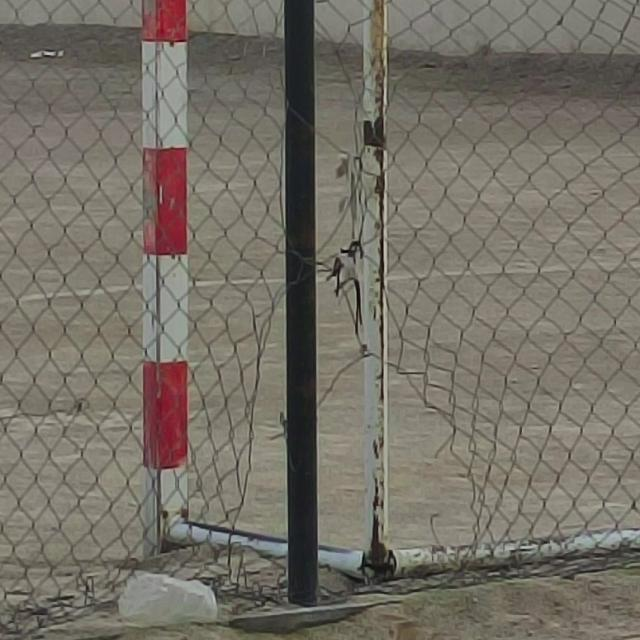fence line: (242, 284, 486, 593), (256, 22, 373, 242)
